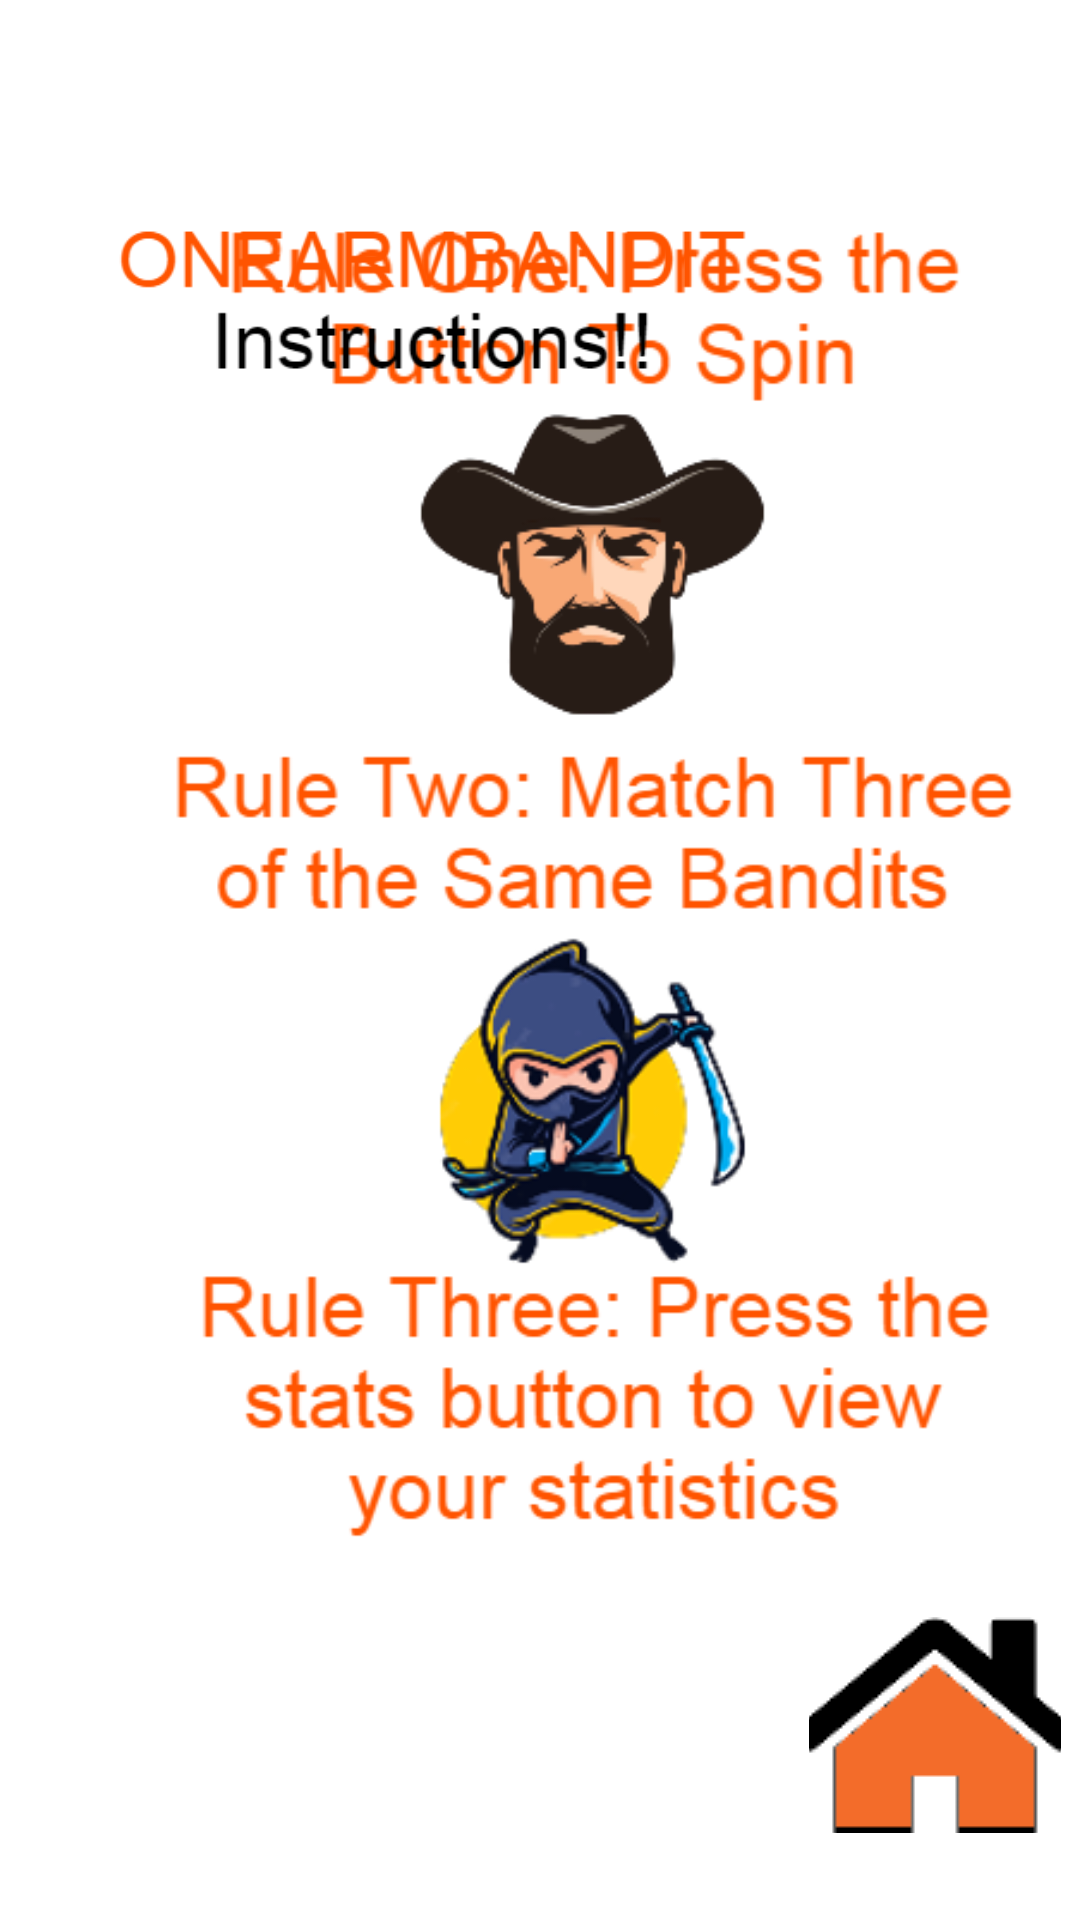

Named icons in this screenshot (1080x1920) and their centers, (x,y):
home: (935,1725)
